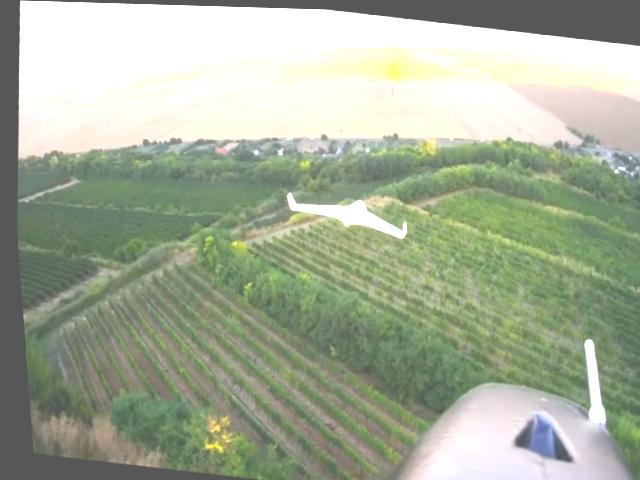plane: (279, 186, 405, 240)
